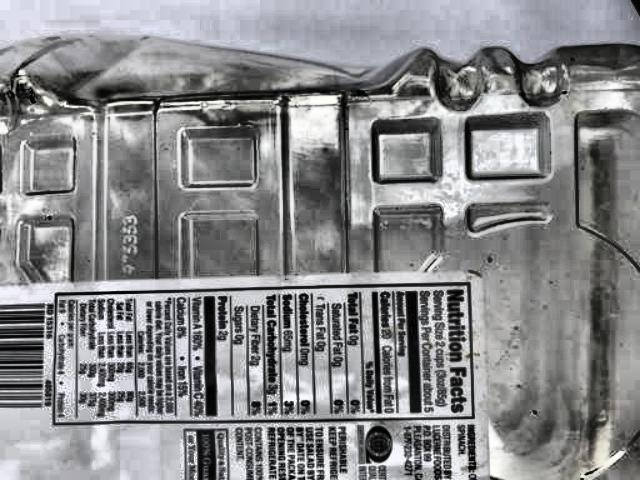Plastic: (1, 33, 640, 480)
